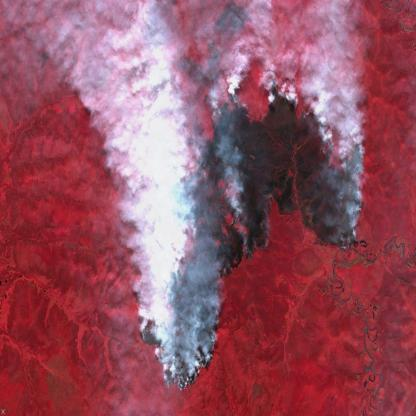fire: (134, 64, 370, 400)
